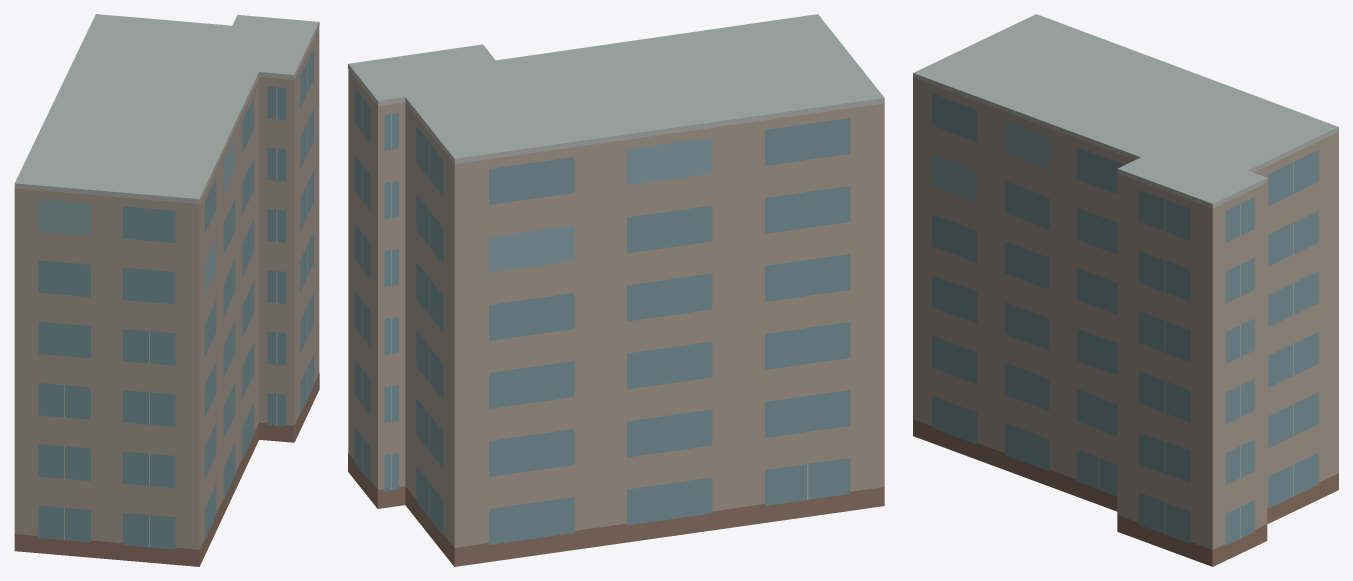
Rendered from survey-upis-32982618.glb.
3 views of the same model, side by side, from view 1: azimuth 30°, elevation 25°; view 2: azimuth 150°, elevation 25°; view 3: azimuth 270°, elevation 25° (orthographic). The views are drawn at different scales.
Parts seen in each view (by area): view 1: survey-upis-32982618.tmp; view 2: survey-upis-32982618.tmp; view 3: survey-upis-32982618.tmp.
Part boxes in pixels (left/top/right/bottom): survey-upis-32982618.tmp: left=14, top=14, right=319, bottom=566; survey-upis-32982618.tmp: left=348, top=14, right=884, bottom=566; survey-upis-32982618.tmp: left=913, top=14, right=1338, bottom=566.
Bounding box in the file's own units: 20.53 × 18.3 × 19.46.
